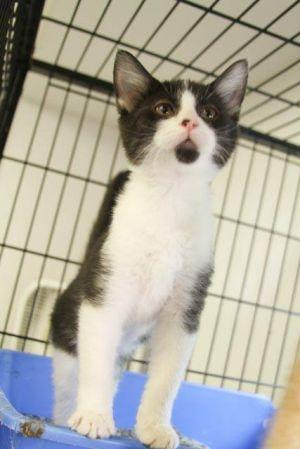ragdoll: (110, 43, 253, 178)
